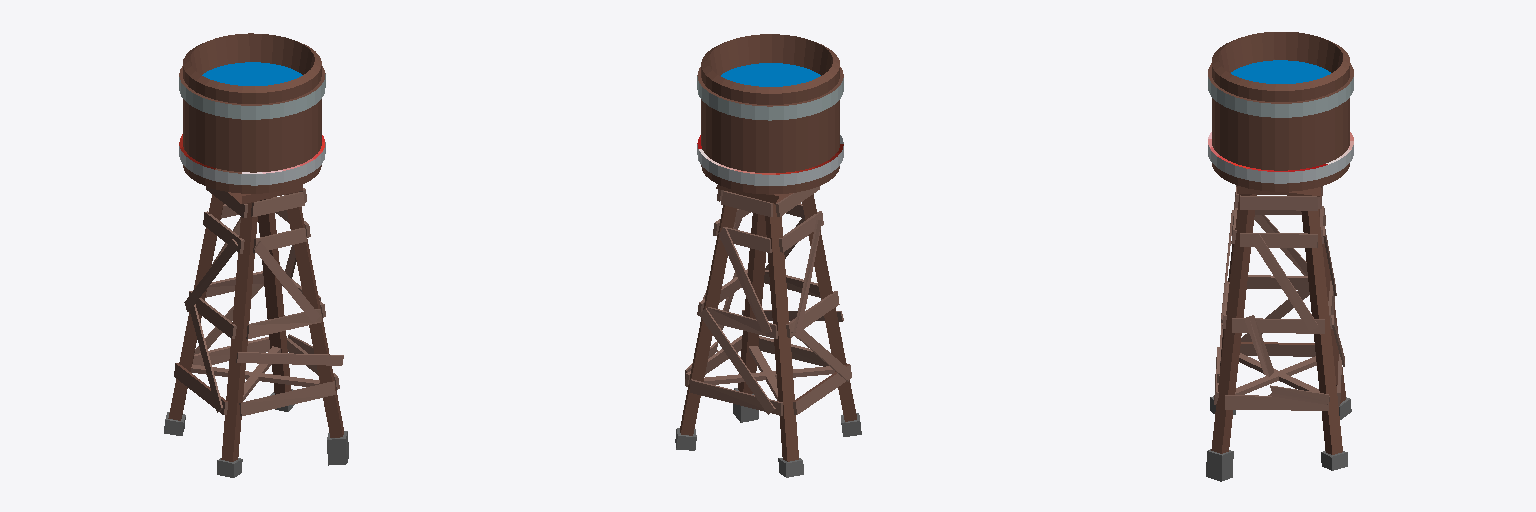
3 views of the same model, side by side, from view 1: azimuth 30°, elevation 25°; view 2: azimuth 150°, elevation 25°; view 3: azimuth 270°, elevation 25° (orthographic).
Parts seen in each view (by area): view 1: Plane.000_Plane.002; view 2: Plane.000_Plane.002; view 3: Plane.000_Plane.002.
Boxes of the visible parts, box(x1,y1,x2,y2) form: Plane.000_Plane.002: box(164, 33, 348, 477); Plane.000_Plane.002: box(675, 34, 861, 477); Plane.000_Plane.002: box(1206, 32, 1353, 481).
Bounding box in the file's own units: 4.29 × 12.07 × 4.12.
Materials: 1 (1 with a texture image).